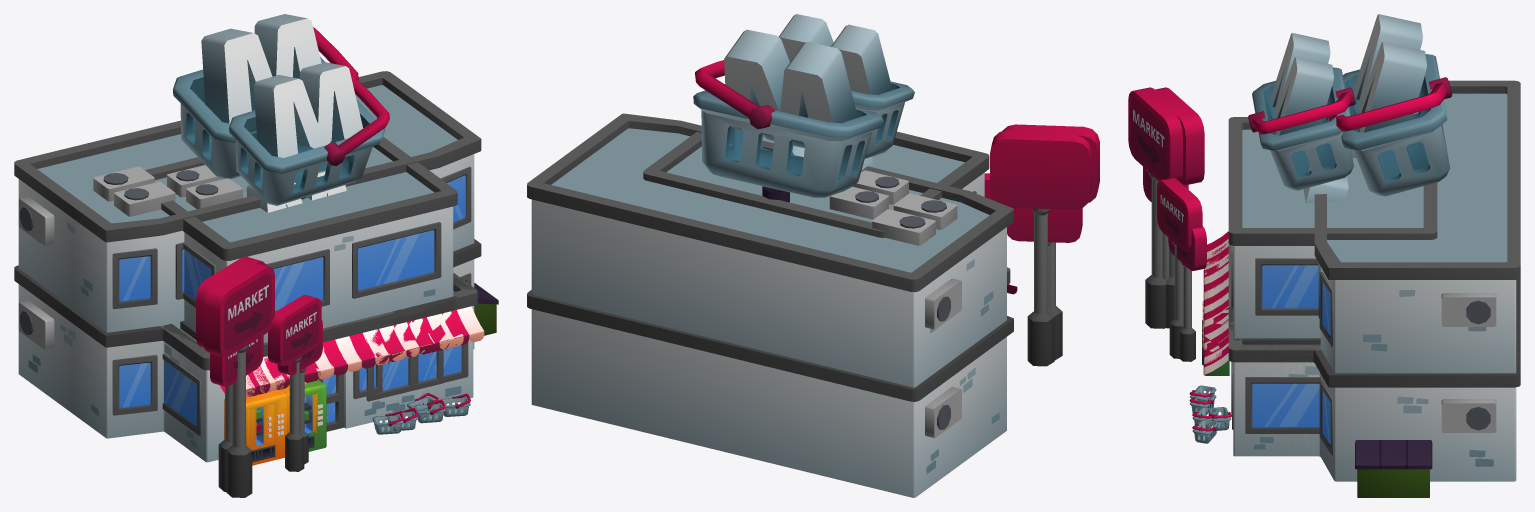
The model's file is Market.fbx.
3 renders of one model, left to right at view 1: azimuth 30°, elevation 25°; view 2: azimuth 150°, elevation 25°; view 3: azimuth 270°, elevation 25°, orthographic. The views are drawn at different scales.
Parts seen in each view (by area): view 1: Store Market Level 5, Store Market Level 4, Store Market Level 3, Store Market Level 2, Store Market Level 1; view 2: Store Market Level 5, Store Market Level 4, Store Market Level 3; view 3: Store Market Level 5, Store Market Level 4, Store Market Level 3, Store Market Level 2, Store Market Level 1.
Part boxes in pixels (left/top/right/bottom): Store Market Level 5: left=14, top=14, right=498, bottom=491; Store Market Level 4: left=145, top=62, right=463, bottom=497; Store Market Level 3: left=160, top=170, right=484, bottom=462; Store Market Level 2: left=263, top=295, right=433, bottom=471; Store Market Level 1: left=277, top=311, right=403, bottom=464; Store Market Level 5: left=527, top=29, right=1091, bottom=497; Store Market Level 4: left=643, top=14, right=1099, bottom=360; Store Market Level 3: left=792, top=146, right=1082, bottom=310; Store Market Level 5: left=1151, top=14, right=1520, bottom=497; Store Market Level 4: left=1128, top=33, right=1437, bottom=417; Store Market Level 3: left=1143, top=167, right=1348, bottom=456; Store Market Level 2: left=1157, top=177, right=1233, bottom=414; Store Market Level 1: left=1168, top=226, right=1231, bottom=404.
Bounding box in the file's own units: 2041 × 1654 × 1646.
